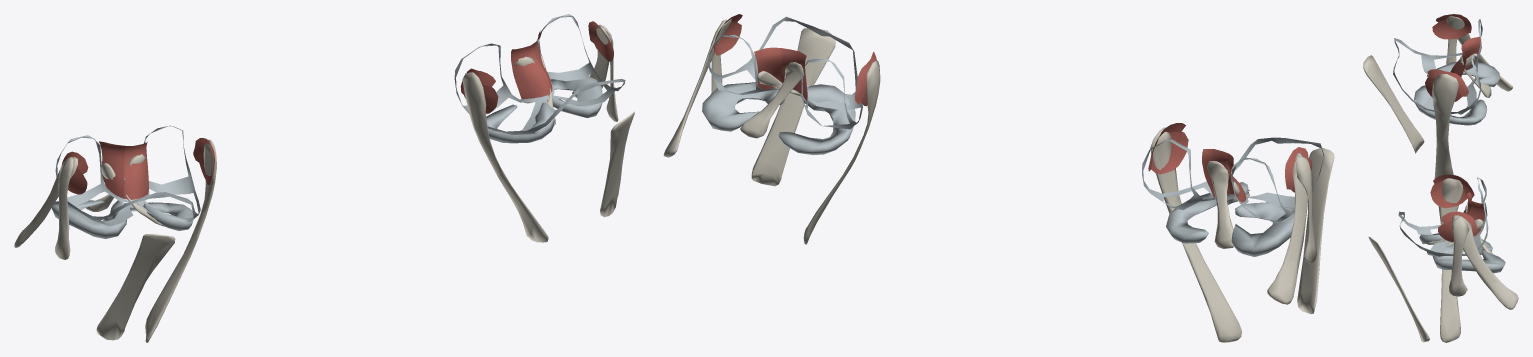
The model's file is adult_female.joint.LOD2.glb.
3 views of the same model, side by side, from view 1: azimuth 30°, elevation 25°; view 2: azimuth 150°, elevation 25°; view 3: azimuth 270°, elevation 25° (orthographic). The views are drawn at different scales.
Visible parts, largest first — view 1: ADULT.FEMALE.JOINT.PATELLAR_LIGAMENT.R, ADULT.FEMALE.JOINT.ARTICULAR_CARTILAGE_OF_KNEE.L, ADULT.FEMALE.JOINT.ARTICULAR_CARTILAGE_OF_KNEE.R, ADULT.FEMALE.JOINT.MENISCUS.L, ADULT.FEMALE.JOINT.TIBIAL_COLLATERAL_LIGAMENT.L, ADULT.FEMALE.JOINT.MENISCUS.R, ADULT.FEMALE.JOINT.TIBIAL_COLLATERAL_LIGAMENT.R, ADULT.FEMALE.JOINT.PATELLAR_LIGAMENT.L, ADULT.FEMALE.JOINT.POSTERIOR_CRUCIATE_ENTHESIS.L, ADULT.FEMALE.JOINT.POSTERIOR_CRUCIATE_ENTHESIS.R, ADULT.FEMALE.JOINT.ANTEROLATERAL_LIGAMENT_OF_KNEE.R, ADULT.FEMALE.JOINT.ANTERIOR_CRUCIATE_ENTHESIS.R (+2 smaller); view 2: ADULT.FEMALE.JOINT.MENISCUS.L, ADULT.FEMALE.JOINT.MENISCUS.R, ADULT.FEMALE.JOINT.PATELLAR_LIGAMENT.L, ADULT.FEMALE.JOINT.TIBIAL_COLLATERAL_LIGAMENT.R, ADULT.FEMALE.JOINT.PATELLAR_LIGAMENT.R, ADULT.FEMALE.JOINT.ARTICULAR_CARTILAGE_OF_KNEE.R, ADULT.FEMALE.JOINT.ARTICULAR_CARTILAGE_OF_KNEE.L, ADULT.FEMALE.JOINT.FIBULAR_COLLATERAL_LIGAMENT.R, ADULT.FEMALE.JOINT.POSTERIOR_CRUCIATE_LIGAMENT_OF_KNEE.R, ADULT.FEMALE.JOINT.POSTERIOR_CRUCIATE_LIGAMENT_OF_KNEE.L, ADULT.FEMALE.JOINT.TIBIAL_COLLATERAL_LIGAMENT.L, ADULT.FEMALE.JOINT.ANTEROLATERAL_LIGAMENT_OF_KNEE.R (+5 smaller); view 3: ADULT.FEMALE.JOINT.TIBIAL_COLLATERAL_LIGAMENT.R, ADULT.FEMALE.JOINT.TIBIAL_COLLATERAL_LIGAMENT.L, ADULT.FEMALE.JOINT.MENISCUS.R, ADULT.FEMALE.JOINT.FIBULAR_COLLATERAL_LIGAMENT.L, ADULT.FEMALE.JOINT.PATELLAR_LIGAMENT.R, ADULT.FEMALE.JOINT.ARTICULAR_CARTILAGE_OF_KNEE.R, ADULT.FEMALE.JOINT.ARTICULAR_CARTILAGE_OF_KNEE.L, ADULT.FEMALE.JOINT.MENISCUS.L, ADULT.FEMALE.JOINT.ANTEROLATERAL_LIGAMENT_OF_KNEE.L, ADULT.FEMALE.JOINT.PATELLAR_LIGAMENT.L, ADULT.FEMALE.JOINT.FIBULAR_COLLATERAL_LIGAMENT.R, ADULT.FEMALE.JOINT.LATERAL_PERICHONDULAR_SURFACE.R (+13 smaller).
Boxes of the visible parts, x1,y1,x2,y2 form: ADULT.FEMALE.JOINT.PATELLAR_LIGAMENT.R: [96, 234, 175, 340]; ADULT.FEMALE.JOINT.ARTICULAR_CARTILAGE_OF_KNEE.L: [454, 14, 625, 134]; ADULT.FEMALE.JOINT.ARTICULAR_CARTILAGE_OF_KNEE.R: [55, 125, 200, 225]; ADULT.FEMALE.JOINT.MENISCUS.L: [486, 76, 602, 143]; ADULT.FEMALE.JOINT.TIBIAL_COLLATERAL_LIGAMENT.L: [462, 72, 548, 242]; ADULT.FEMALE.JOINT.MENISCUS.R: [52, 200, 193, 238]; ADULT.FEMALE.JOINT.TIBIAL_COLLATERAL_LIGAMENT.R: [145, 139, 216, 342]; ADULT.FEMALE.JOINT.PATELLAR_LIGAMENT.L: [600, 111, 634, 217]; ADULT.FEMALE.JOINT.POSTERIOR_CRUCIATE_ENTHESIS.L: [511, 42, 552, 99]; ADULT.FEMALE.JOINT.POSTERIOR_CRUCIATE_ENTHESIS.R: [123, 142, 148, 199]; ADULT.FEMALE.JOINT.ANTEROLATERAL_LIGAMENT_OF_KNEE.R: [55, 157, 73, 259]; ADULT.FEMALE.JOINT.ANTERIOR_CRUCIATE_ENTHESIS.R: [99, 141, 124, 198]; ADULT.FEMALE.JOINT.MENISCUS.L: [702, 82, 855, 155]; ADULT.FEMALE.JOINT.MENISCUS.R: [1166, 182, 1294, 256]; ADULT.FEMALE.JOINT.PATELLAR_LIGAMENT.L: [751, 28, 835, 186]; ADULT.FEMALE.JOINT.TIBIAL_COLLATERAL_LIGAMENT.R: [1150, 127, 1241, 342]; ADULT.FEMALE.JOINT.PATELLAR_LIGAMENT.R: [1297, 148, 1334, 314]; ADULT.FEMALE.JOINT.ARTICULAR_CARTILAGE_OF_KNEE.R: [1142, 137, 1324, 221]; ADULT.FEMALE.JOINT.ARTICULAR_CARTILAGE_OF_KNEE.L: [707, 16, 862, 129]; ADULT.FEMALE.JOINT.FIBULAR_COLLATERAL_LIGAMENT.R: [1267, 153, 1307, 304]; ADULT.FEMALE.JOINT.POSTERIOR_CRUCIATE_LIGAMENT_OF_KNEE.R: [1207, 161, 1233, 248]; ADULT.FEMALE.JOINT.POSTERIOR_CRUCIATE_LIGAMENT_OF_KNEE.L: [740, 62, 803, 138]; ADULT.FEMALE.JOINT.TIBIAL_COLLATERAL_LIGAMENT.L: [803, 60, 880, 244]; ADULT.FEMALE.JOINT.ANTEROLATERAL_LIGAMENT_OF_KNEE.R: [1295, 156, 1316, 263]; ADULT.FEMALE.JOINT.TIBIAL_COLLATERAL_LIGAMENT.R: [1432, 74, 1458, 178]; ADULT.FEMALE.JOINT.TIBIAL_COLLATERAL_LIGAMENT.L: [1438, 174, 1463, 342]; ADULT.FEMALE.JOINT.MENISCUS.R: [1414, 62, 1499, 125]; ADULT.FEMALE.JOINT.FIBULAR_COLLATERAL_LIGAMENT.L: [1451, 215, 1518, 309]; ADULT.FEMALE.JOINT.PATELLAR_LIGAMENT.R: [1363, 55, 1424, 153]; ADULT.FEMALE.JOINT.ARTICULAR_CARTILAGE_OF_KNEE.R: [1393, 19, 1482, 114]; ADULT.FEMALE.JOINT.ARTICULAR_CARTILAGE_OF_KNEE.L: [1398, 177, 1488, 257]; ADULT.FEMALE.JOINT.MENISCUS.L: [1419, 233, 1505, 273]; ADULT.FEMALE.JOINT.ANTEROLATERAL_LIGAMENT_OF_KNEE.L: [1449, 216, 1469, 296]; ADULT.FEMALE.JOINT.PATELLAR_LIGAMENT.L: [1368, 236, 1429, 342]; ADULT.FEMALE.JOINT.FIBULAR_COLLATERAL_LIGAMENT.R: [1446, 16, 1512, 91]; ADULT.FEMALE.JOINT.LATERAL_PERICHONDULAR_SURFACE.R: [1432, 19, 1466, 39].
Size of the model in its own units: 0.3572 by 0.1168 by 0.1063.
